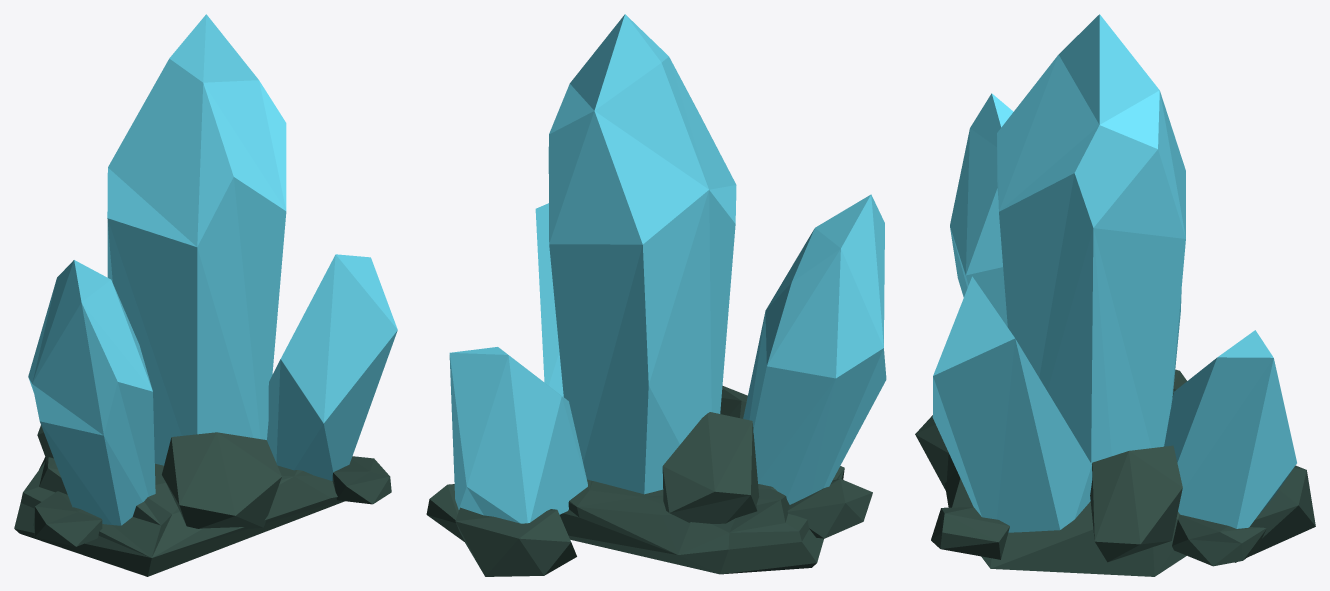
File: Gem_01.FBX
The picture shows the model from 3 angles, left to right: view 1: azimuth 30°, elevation 25°; view 2: azimuth 150°, elevation 25°; view 3: azimuth 270°, elevation 25°; orthographic projection. The views are drawn at different scales.
Parts seen in each view (by area): view 1: Gem_01; view 2: Gem_01; view 3: Gem_01.
Boxes of the visible parts, left/top/right/bottom form: Gem_01: left=14, top=14, right=397, bottom=576; Gem_01: left=426, top=14, right=886, bottom=576; Gem_01: left=915, top=14, right=1315, bottom=576.
Bounding box in the file's own units: 49.8 × 67.11 × 47.72.
